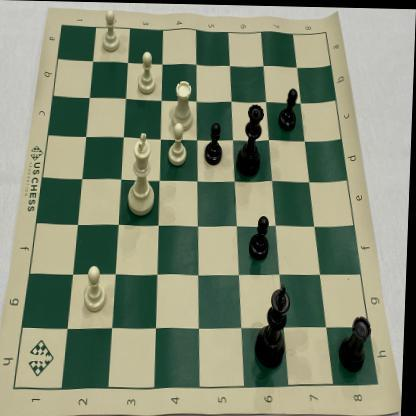black-king: (254, 280, 294, 372)
black-pawn: (249, 212, 274, 262), (205, 119, 227, 166), (280, 84, 300, 131)
black-queen: (236, 98, 267, 178)
black-rook: (338, 312, 376, 376)
white-king: (126, 130, 160, 220)
white-pawn: (84, 265, 110, 316), (165, 119, 190, 168), (135, 47, 160, 96), (98, 7, 122, 54)
white-rook: (170, 77, 198, 134)
